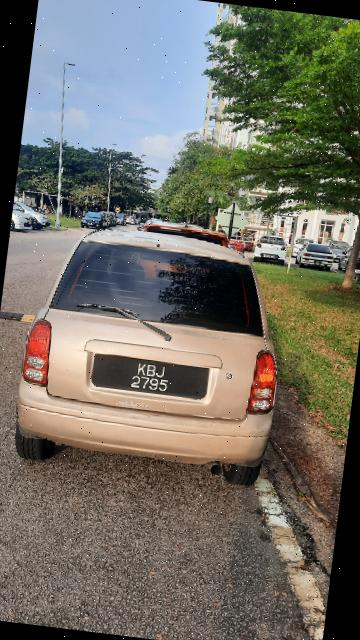License_Plate: (82, 349, 214, 409)
car: (1, 216, 306, 492)
